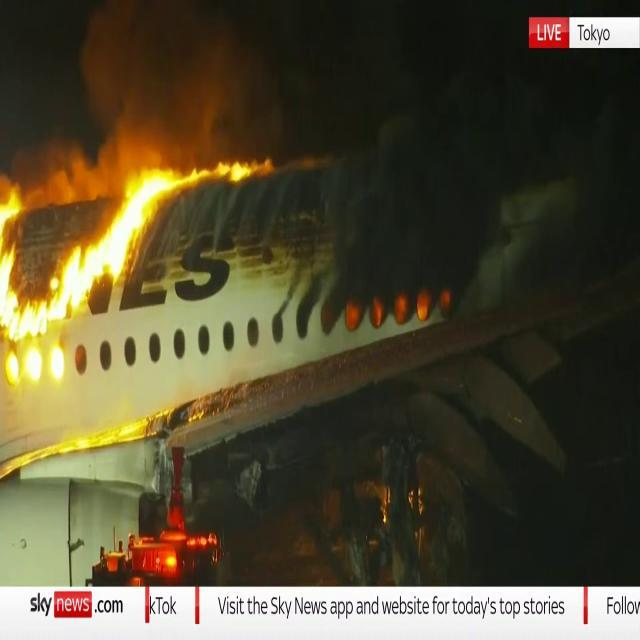Fire: (0, 151, 178, 382), (68, 156, 178, 295)
Smoke: (75, 1, 283, 168)
